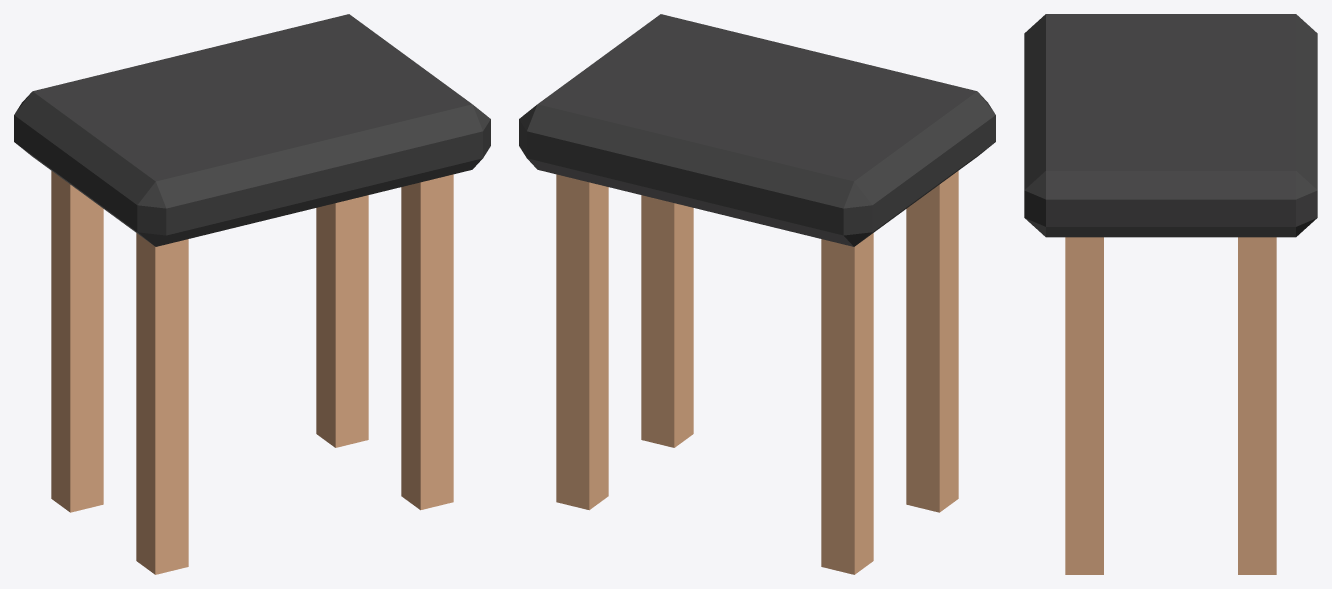
3 renders of one model, left to right at view 1: azimuth 30°, elevation 25°; view 2: azimuth 150°, elevation 25°; view 3: azimuth 270°, elevation 25°, orthographic.
Visible parts, largest first — view 1: Cushioned seat, Stool leg, Stool leg.002, Stool leg.001, Stool leg.003; view 2: Cushioned seat, Stool leg.001, Stool leg.003, Stool leg, Stool leg.002; view 3: Cushioned seat, Stool leg.002, Stool leg.003.
Boxes of the visible parts, bbox=[...] form: Cushioned seat: bbox=[14, 14, 490, 246]; Stool leg: bbox=[136, 233, 188, 574]; Stool leg.002: bbox=[401, 174, 453, 510]; Stool leg.001: bbox=[51, 171, 103, 512]; Stool leg.003: bbox=[316, 195, 368, 447]; Cushioned seat: bbox=[519, 14, 995, 246]; Stool leg.001: bbox=[821, 233, 873, 574]; Stool leg.003: bbox=[556, 174, 608, 510]; Stool leg: bbox=[906, 171, 958, 512]; Stool leg.002: bbox=[641, 195, 693, 447]; Cushioned seat: bbox=[1024, 14, 1317, 237]; Stool leg.002: bbox=[1065, 237, 1103, 574]; Stool leg.003: bbox=[1238, 237, 1276, 574].
Size of the model in its own units: 48 by 52.25 by 34.
